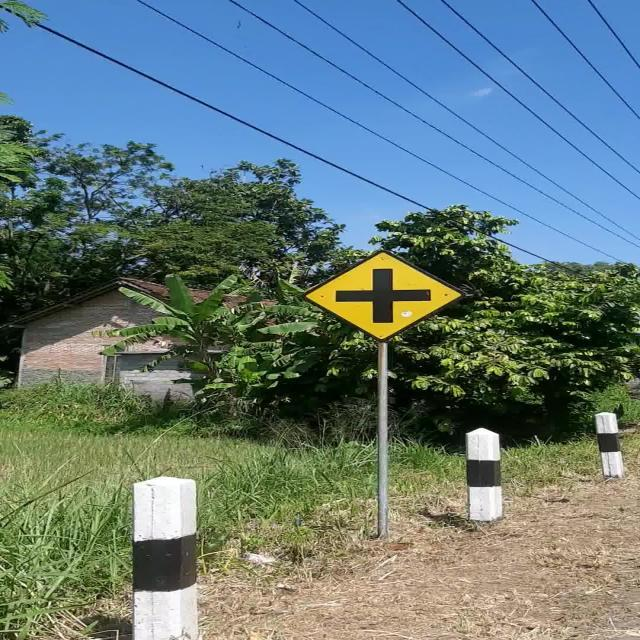Persimpangan 4: (302, 250, 465, 342)
